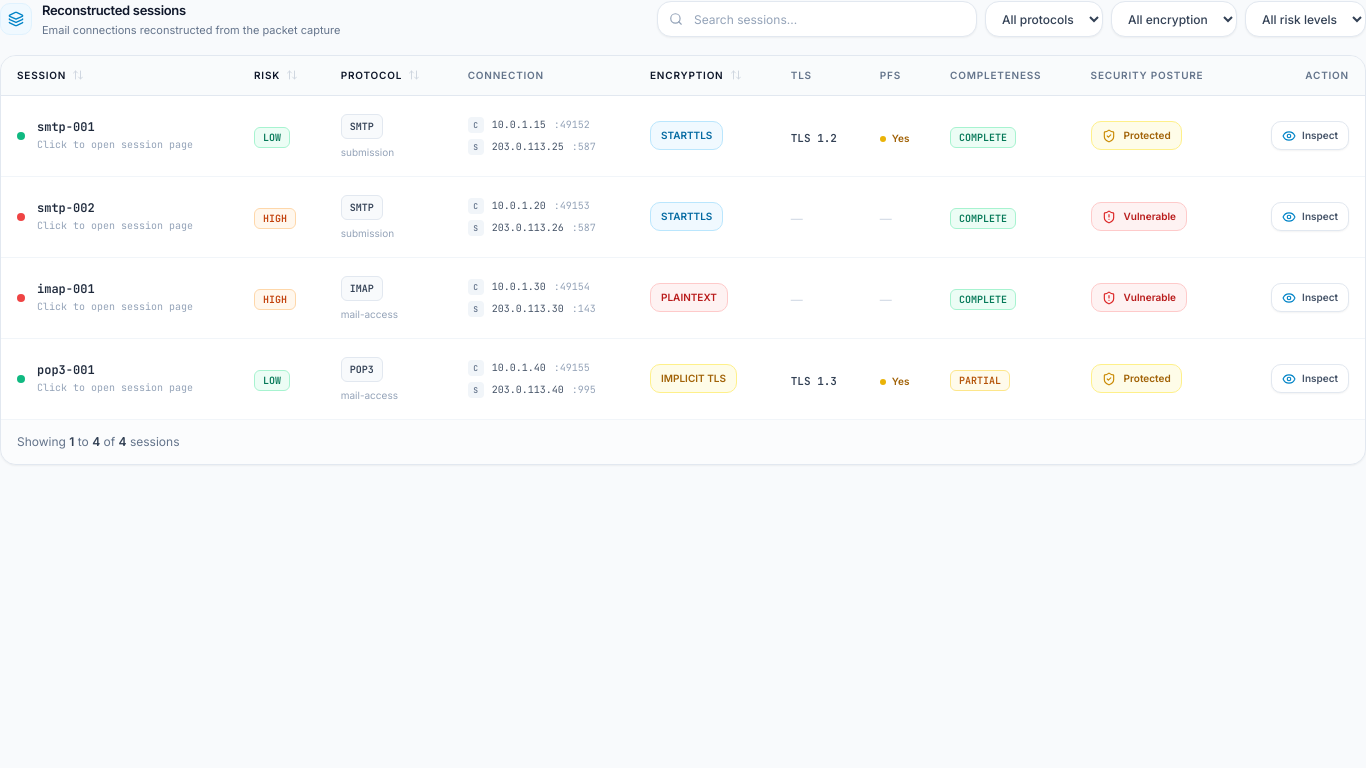
Test: Frontend Component Unit & Integration Tests › SessionTable › opens session inspection modal with tri-state values when clicking inspect without analysisId
Click the button "Inspect" in the row of "smtp-001": (1310, 136) [1271,121,1349,150]
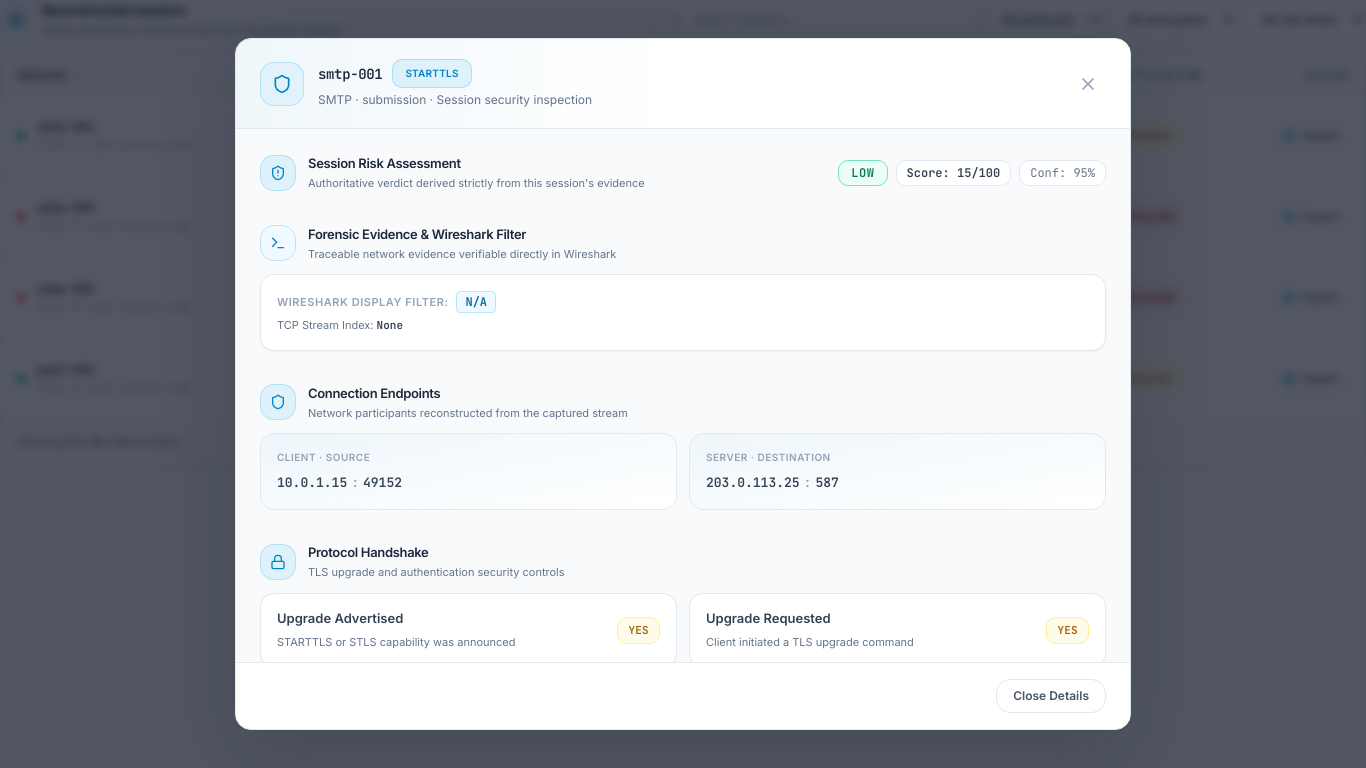
Result: the dialog is shown
Result: the heading "Protocol Handshake" is shown at [308,544,428,560]
Result: the text "Upgrade Advertised" is shown at [277,610,403,626]
